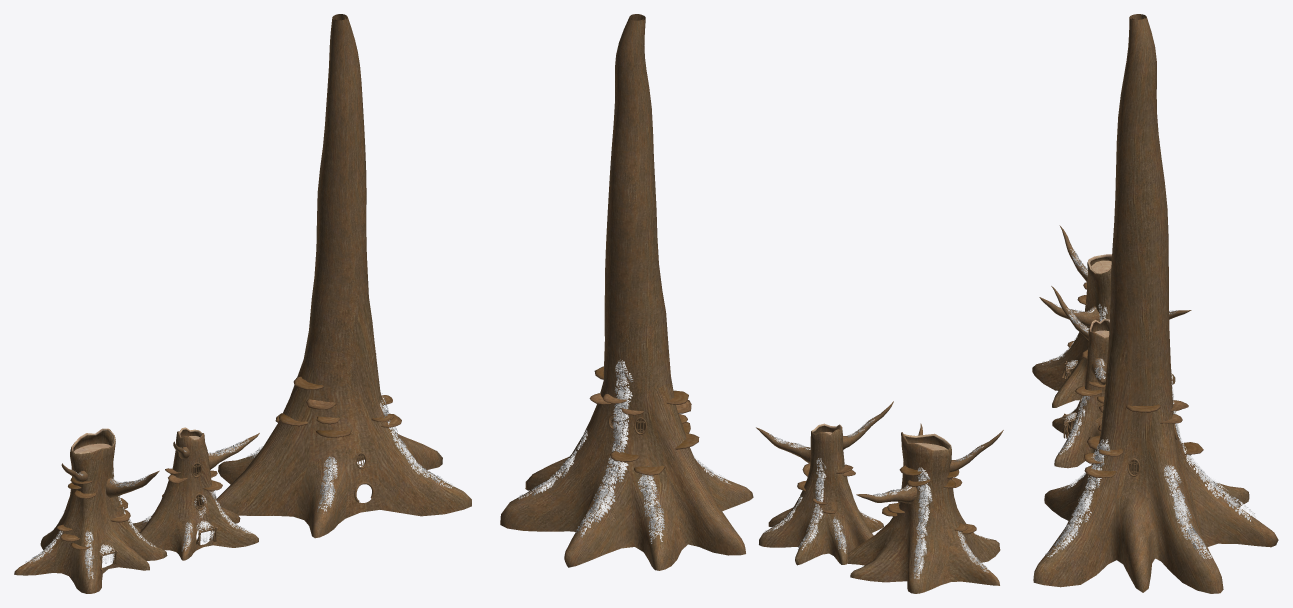
File: Hollowed_Homes_A1.fbx
3 views of the same model, side by side, from view 1: azimuth 30°, elevation 25°; view 2: azimuth 150°, elevation 25°; view 3: azimuth 270°, elevation 25° (orthographic). The views are drawn at different scales.
Parts seen in each view (by area): view 1: Hollowed_Home_A3, Hollowed_Home_A2, Hollowed_Home_A1, Hollowed_Home_A3_Mushrooms, Hollowed_Home_A3_Ivy1, Hollowed_Home_A2_Branches, Hollowed_Home_A2_Mushrooms, Hollowed_Home_A2_Ivy1, Hollowed_Home_A1_Branches; view 2: Hollowed_Home_A3, Hollowed_Home_A2, Hollowed_Home_A1, Hollowed_Home_A3_Ivy1, Hollowed_Home_A3_Mushrooms, Hollowed_Home_A2_Ivy1, Hollowed_Home_A1_Ivy1, Hollowed_Home_A2_Branches, Hollowed_Home_A1_Branches, Hollowed_Home_A2_Mushrooms; view 3: Hollowed_Home_A3, Hollowed_Home_A3_Ivy1, Hollowed_Home_A2, Hollowed_Home_A1, Hollowed_Home_A3_Mushrooms, Hollowed_Home_A2_Branches, Hollowed_Home_A1_Branches, Hollowed_Home_A1_Ivy1.
Boxes of the visible parts, x1,y1,x2,y2 form: Hollowed_Home_A3: [217, 14, 471, 538]; Hollowed_Home_A2: [14, 428, 167, 593]; Hollowed_Home_A1: [132, 427, 258, 560]; Hollowed_Home_A3_Mushrooms: [275, 353, 401, 437]; Hollowed_Home_A3_Ivy1: [245, 393, 453, 513]; Hollowed_Home_A2_Branches: [61, 463, 159, 497]; Hollowed_Home_A2_Mushrooms: [56, 477, 130, 549]; Hollowed_Home_A2_Ivy1: [25, 472, 155, 578]; Hollowed_Home_A1_Branches: [173, 433, 259, 469]; Hollowed_Home_A3: [500, 14, 753, 570]; Hollowed_Home_A2: [837, 432, 1000, 593]; Hollowed_Home_A1: [759, 423, 883, 565]; Hollowed_Home_A3_Ivy1: [518, 359, 730, 543]; Hollowed_Home_A3_Mushrooms: [589, 366, 699, 475]; Hollowed_Home_A2_Ivy1: [901, 467, 991, 579]; Hollowed_Home_A1_Ivy1: [764, 458, 877, 553]; Hollowed_Home_A2_Branches: [856, 423, 1003, 503]; Hollowed_Home_A1_Branches: [756, 401, 893, 463]; Hollowed_Home_A2_Mushrooms: [882, 465, 976, 534]; Hollowed_Home_A3: [1033, 14, 1278, 593]; Hollowed_Home_A3_Ivy1: [1045, 367, 1255, 558]; Hollowed_Home_A2: [1032, 254, 1175, 412]; Hollowed_Home_A1: [1052, 318, 1109, 468]; Hollowed_Home_A3_Mushrooms: [1084, 400, 1203, 477]; Hollowed_Home_A2_Branches: [1039, 225, 1191, 327]; Hollowed_Home_A1_Branches: [1051, 286, 1106, 385]; Hollowed_Home_A1_Ivy1: [1058, 396, 1089, 454].
Bounding box in the file's own units: 10770 × 11346 × 4750.
